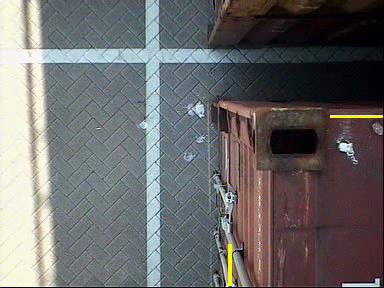groundmarker_2: (97, 184, 195, 246)
